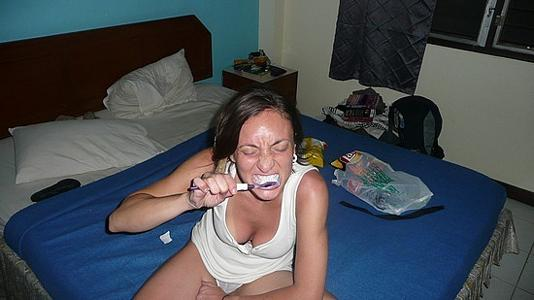person: (106, 91, 343, 300)
